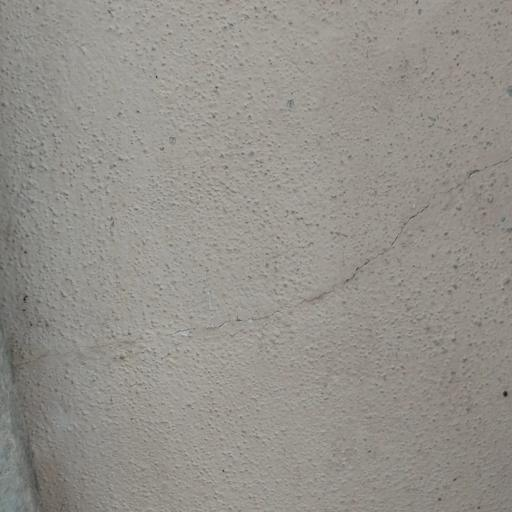minor_crack: (173, 149, 512, 339)
